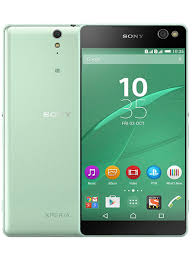sony: (78, 22, 188, 238)
